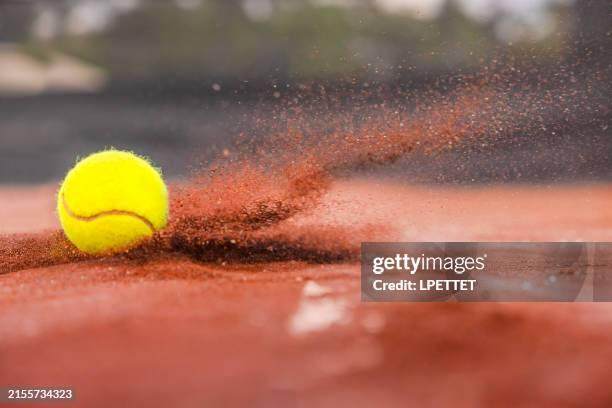ball_tennis: (56, 147, 172, 258)
